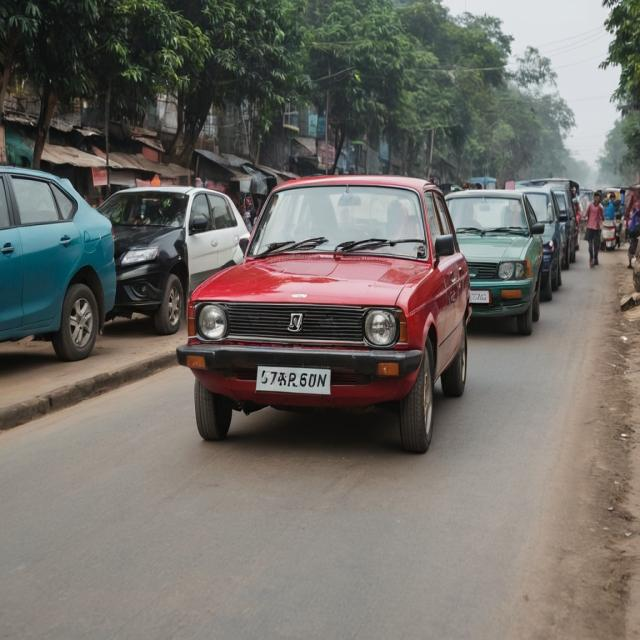blue: (0, 162, 119, 368)
green: (440, 196, 544, 341)
maroon: (192, 180, 480, 458)
